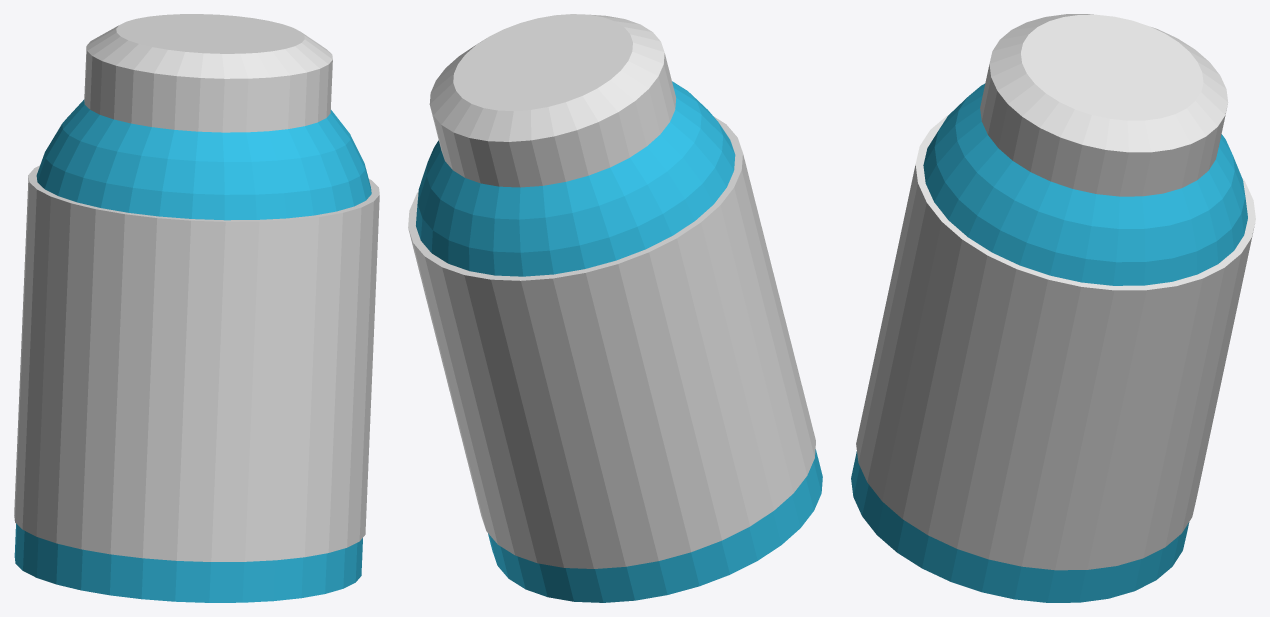
Rendered from smallhealth.fbx.
3 views of the same model, side by side, from view 1: azimuth 30°, elevation 25°; view 2: azimuth 150°, elevation 25°; view 3: azimuth 270°, elevation 25° (orthographic). The views are drawn at different scales.
Parts seen in each view (by area): view 1: Cylinder; view 2: Cylinder; view 3: Cylinder.
Part boxes in pixels (bbox=[...]): Cylinder: bbox=[14, 14, 379, 602]; Cylinder: bbox=[408, 14, 822, 602]; Cylinder: bbox=[851, 14, 1255, 602].
Bounding box in the file's own units: 232 × 340 × 237.
